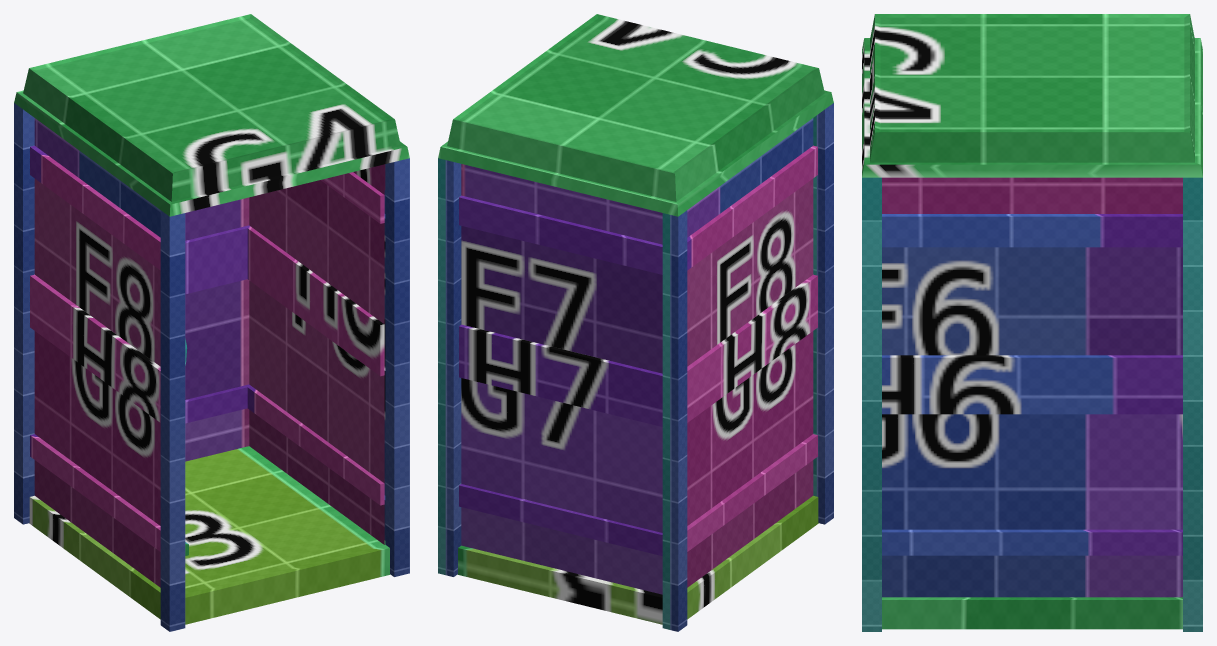
File: CabineTelefonica.fbx
The picture shows the model from 3 angles, left to right: view 1: azimuth 30°, elevation 25°; view 2: azimuth 150°, elevation 25°; view 3: azimuth 270°, elevation 25°; orthographic projection. The views are drawn at different scales.
Visible parts, largest first — view 1: CabineTelefonica; view 2: CabineTelefonica; view 3: CabineTelefonica.
Part boxes in pixels (bbox=[...]): CabineTelefonica: bbox=[14, 14, 409, 631]; CabineTelefonica: bbox=[438, 14, 833, 631]; CabineTelefonica: bbox=[862, 14, 1202, 631].
Bounding box in the file's own units: 200 × 360 × 224.
